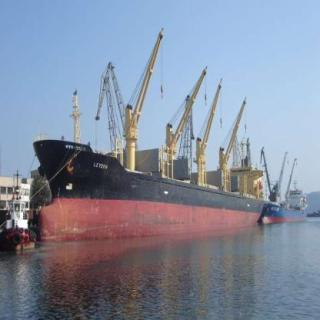Bulk Carrier: (22, 26, 246, 242)
